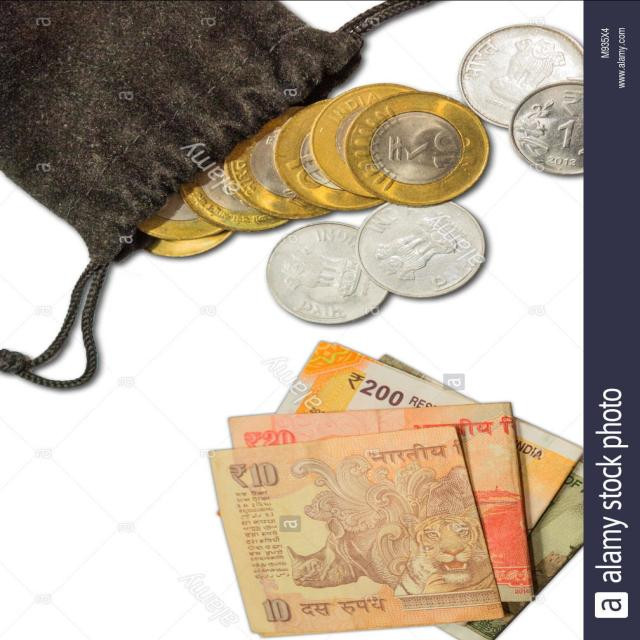10IndianRupees: (199, 438, 512, 630)
